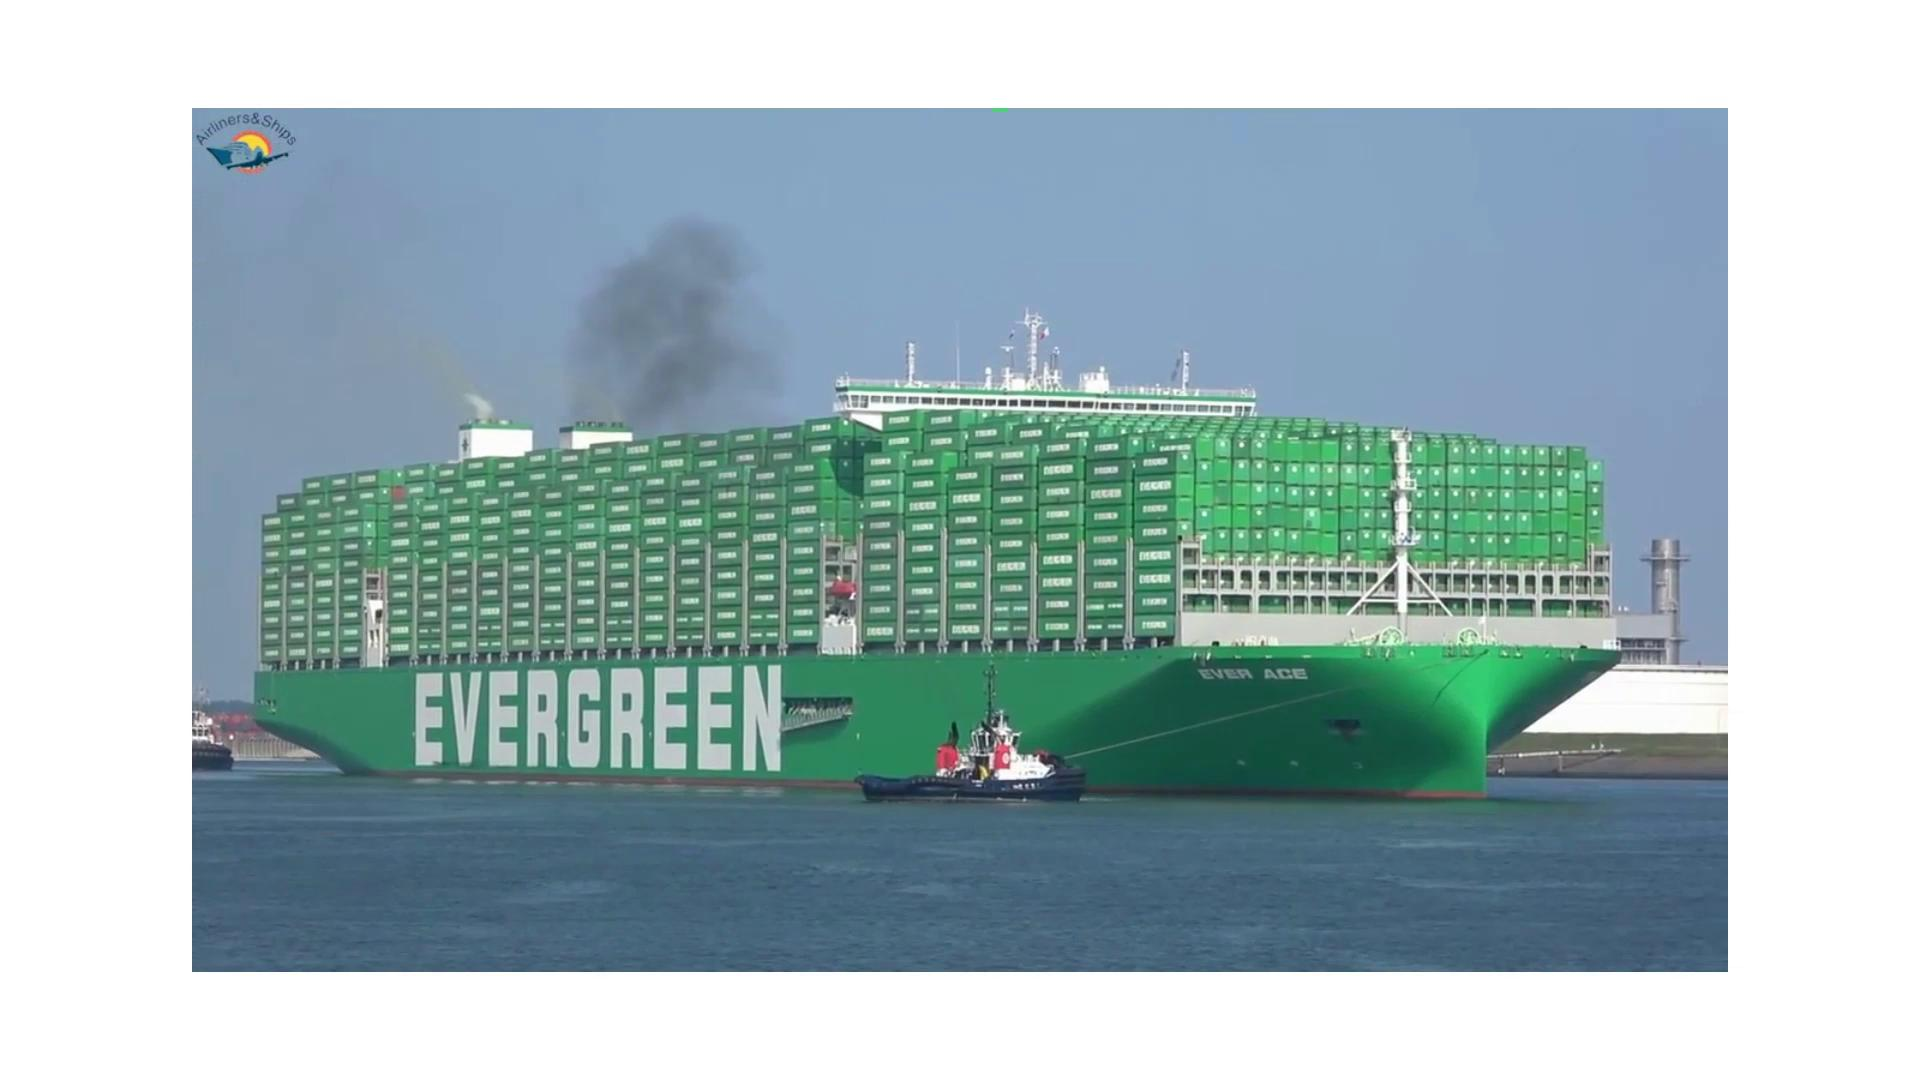OCR: (397, 655, 800, 794), (1178, 650, 1319, 695)
